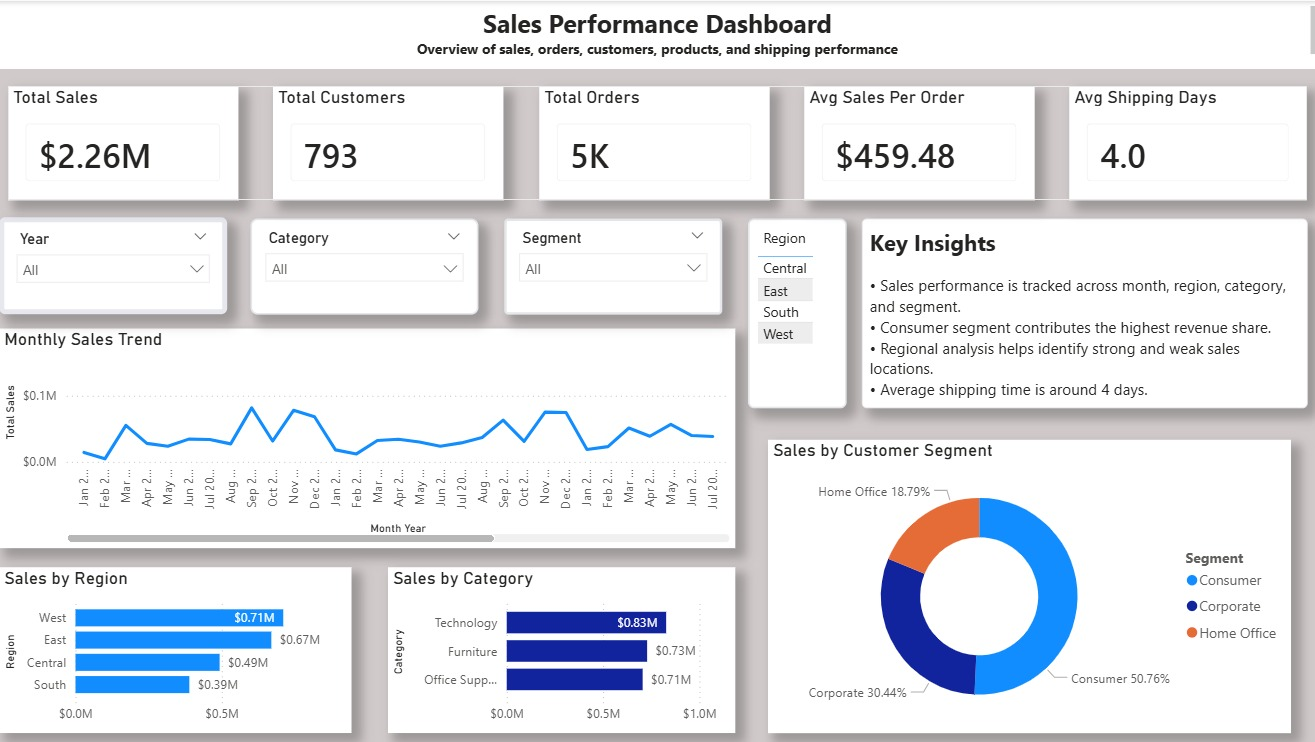

This screenshot's page, from the dashboard's own definition file:
{"tool":"powerbi","page":{"name":"Sales Overview","canvas":[1280,720],"ordinal":0},"visuals":[{"type":"textbox","box":[1.4,0,1278.9,65.9],"z":0},{"type":"cardVisual","title":"Total Sales","fields":{"Data":["Orders.Total Sales"]},"box":[10,81.7,222.1,110],"z":1000,"group":"g1"},{"type":"lineChart","title":"Monthly Sales Trend","fields":{"Category":["Date Table.Month Year"],"Y":["Orders.Total Sales"]},"box":[1.7,316.7,710,211.7],"z":1000},{"type":"cardVisual","title":"Total Orders","fields":{"Data":["Orders.Total Orders"]},"box":[522.2,81.7,222.1,110],"z":2000,"group":"g1"},{"type":"clusteredBarChart","title":"Sales by Category","fields":{"Category":["Orders.Category"],"Y":["Orders.Total Sales"]},"box":[376.7,546.7,335,160],"z":2000},{"type":"cardVisual","title":"Total Customers","fields":{"Data":["Orders.Total Customers"]},"box":[266.1,81.7,222.1,110],"z":3000,"group":"g1"},{"type":"donutChart","title":"Sales by Customer Segment","fields":{"Category":["Orders.Segment"],"Y":["Orders.Total Sales"]},"box":[743.3,423.3,505,283.3],"z":3000},{"type":"cardVisual","title":"Avg Sales Per Order","fields":{"Data":["Orders.Average Sales Per Order"]},"box":[778.2,81.7,222.1,110],"z":4000,"group":"g1"},{"type":"clusteredBarChart","title":"Sales by Region","fields":{"Category":["Orders.Region"],"Y":["Orders.Total Sales"]},"box":[1.7,546.7,340,160],"z":4000},{"type":"slicer","fields":{"Values":["Date Table.Year"]},"box":[1.7,208.3,220,93.3],"z":5000},{"type":"slicer","fields":{"Values":["Orders.Category"]},"box":[243.3,209.9,220,92.5],"z":6000},{"type":"tableEx","fields":{"Values":["Orders.Region"]},"box":[723.3,209.9,95,183.4],"z":7000},{"type":"slicer","fields":{"Values":["Orders.Segment"]},"box":[488.3,209.9,210,92.5],"z":8000},{"type":"textbox","box":[833.3,209.9,430,183.4],"z":9000},{"type":"group","id":"g1","title":"Group 1","box":[10,81.7,1253.3,110],"z":10000},{"type":"cardVisual","title":"Avg Shipping Days","fields":{"Data":["Orders.Average Shipping Days"]},"box":[1034.3,81.7,229,110],"z":13000,"group":"g1"}]}

Visuals, with their boxes in screenshot pixels (x1, y1, x2, y2), scaled from the page's 1280x720 canvas onto the 1315x742 screenshot:
textbox: [1,0,1314,68]
"Total Sales" cardVisual: [10,84,238,198]
"Monthly Sales Trend" lineChart: [2,326,731,545]
"Total Orders" cardVisual: [536,84,765,198]
"Sales by Category" clusteredBarChart: [387,563,731,728]
"Total Customers" cardVisual: [273,84,502,198]
"Sales by Customer Segment" donutChart: [764,436,1282,728]
"Avg Sales Per Order" cardVisual: [799,84,1028,198]
"Sales by Region" clusteredBarChart: [2,563,351,728]
slicer - Date Table.Year: [2,215,228,311]
slicer - Orders.Category: [250,216,476,312]
tableEx - Orders.Region: [743,216,841,405]
slicer - Orders.Segment: [502,216,717,312]
textbox: [856,216,1298,405]
"Group 1" group: [10,84,1298,198]
"Avg Shipping Days" cardVisual: [1063,84,1298,198]
